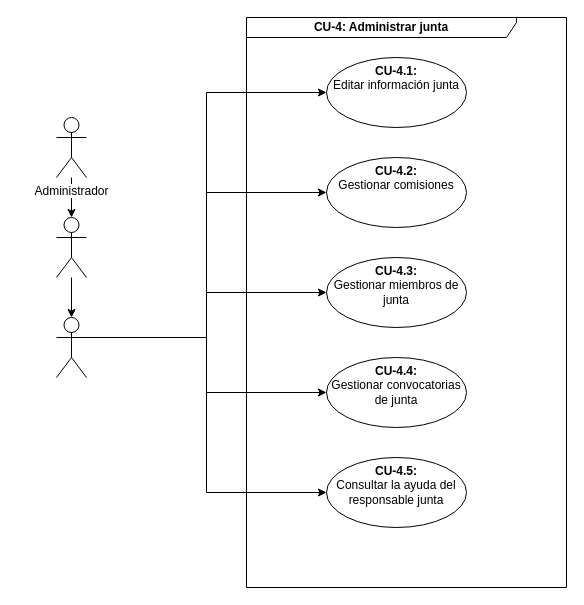
The diagram is 584 pixels wide and 605 high, and some of its shapes have lost their labels. Each missing label, with the centre of its shape:
"Responsable Centro" goes at [71,247].
"Responsable Junta" goes at [71,347].
